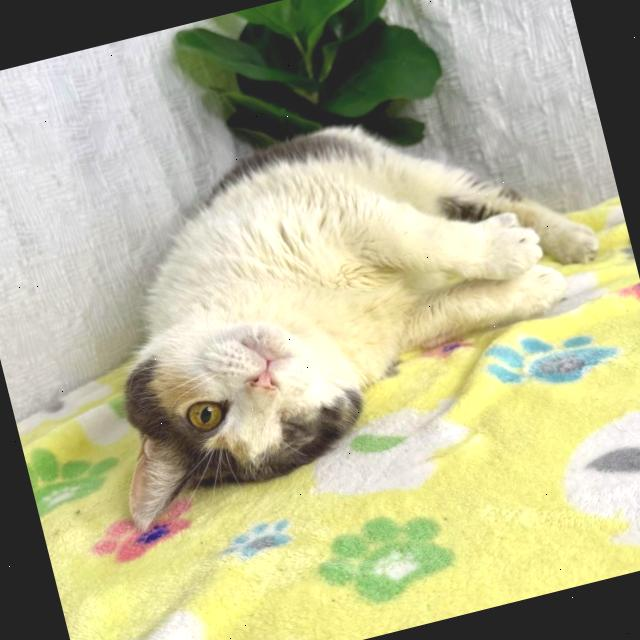calico_cat: (58, 218, 412, 566)
